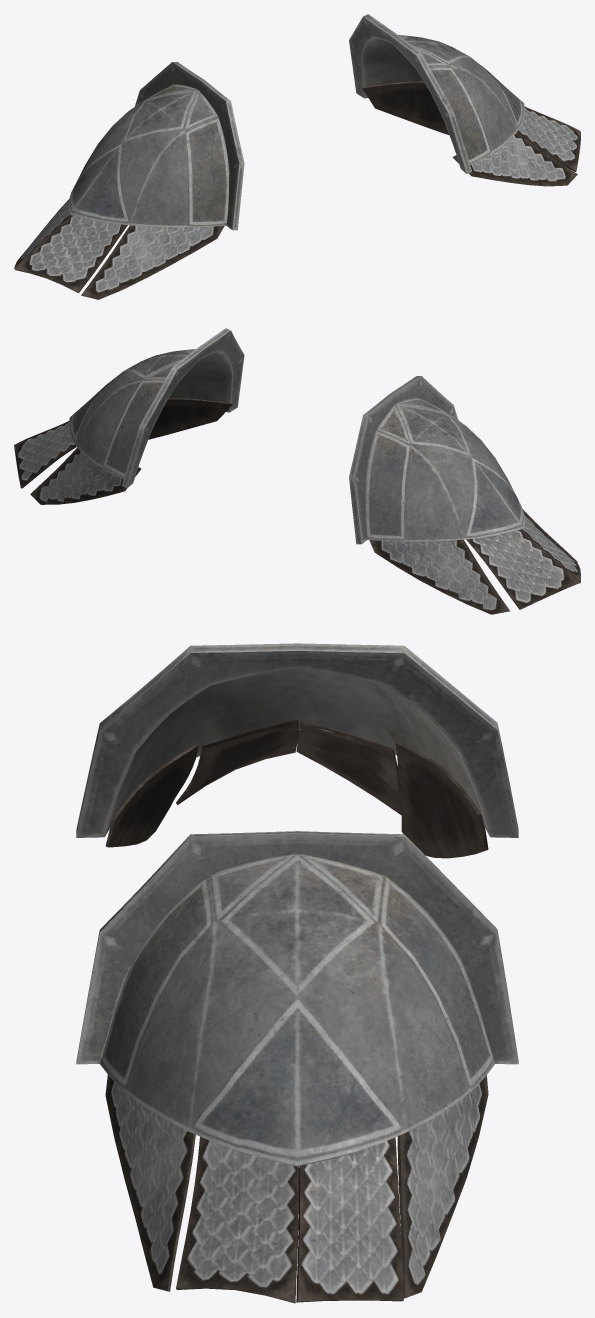
The model's file is sk_dwarf_erebor_pauldron_plate_heavy_d.fbx.
3 views of the same model, one above another, from view 1: azimuth 30°, elevation 25°; view 2: azimuth 150°, elevation 25°; view 3: azimuth 270°, elevation 25° (orthographic). The views are drawn at different scales.
Parts seen in each view (by area): view 1: sk_dwarf_erebor_pauldron_plate_heavy_d; view 2: sk_dwarf_erebor_pauldron_plate_heavy_d; view 3: sk_dwarf_erebor_pauldron_plate_heavy_d.
Part boxes in pixels (<box>): sk_dwarf_erebor_pauldron_plate_heavy_d: <box>14,14,580,299</box>; sk_dwarf_erebor_pauldron_plate_heavy_d: <box>14,328,580,614</box>; sk_dwarf_erebor_pauldron_plate_heavy_d: <box>76,643,518,1303</box>.
Bounding box in the file's own units: 0.9002 × 0.3048 × 0.2542.
Materials: 1 (1 with a texture image).
